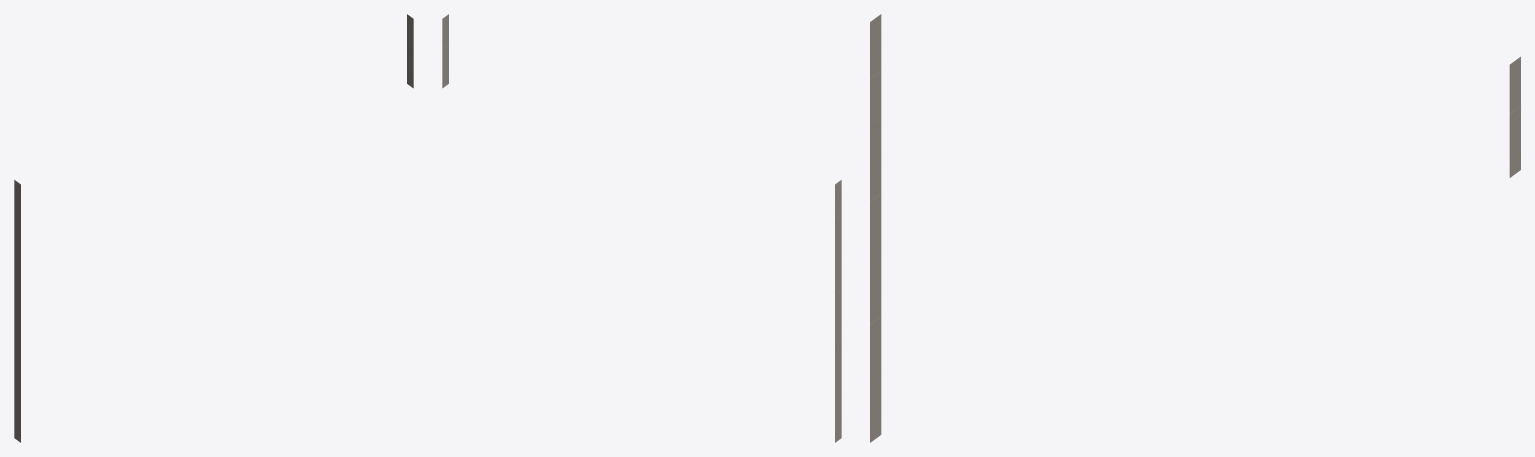
File: kd_stage_135ded_4_82_bounded_piece_0.glb
3 views of the same model, side by side, from view 1: azimuth 30°, elevation 25°; view 2: azimuth 150°, elevation 25°; view 3: azimuth 330°, elevation 25° (orthographic). The views are drawn at different scales.
Parts seen in each view (by area): view 1: kd_stage_135ded_4_82_bounded_piece_0; view 2: kd_stage_135ded_4_82_bounded_piece_0; view 3: kd_stage_135ded_4_82_bounded_piece_0.
Boxes of the visible parts, x1,y1,x2,y2 form: kd_stage_135ded_4_82_bounded_piece_0: (14, 14, 413, 442); kd_stage_135ded_4_82_bounded_piece_0: (442, 14, 841, 442); kd_stage_135ded_4_82_bounded_piece_0: (870, 14, 1520, 442).
Bounding box in the file's own units: 1 × 0.8 × 0.03.
Materials: 1 (1 with a texture image).
